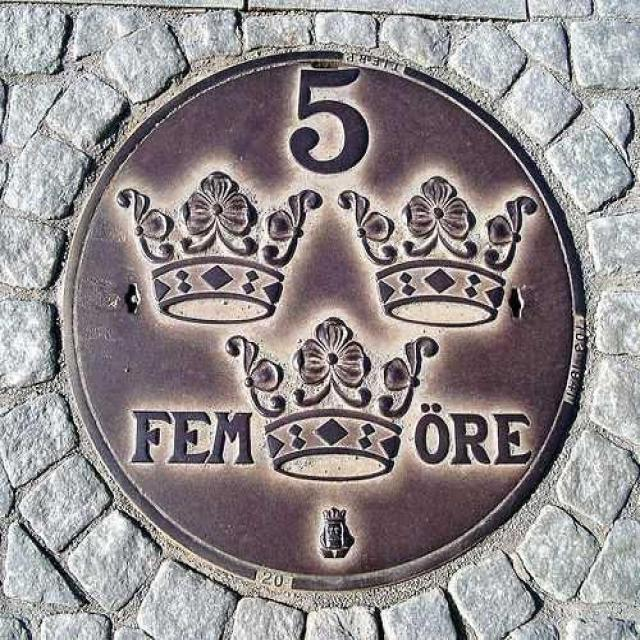manhole: (64, 51, 585, 590)
